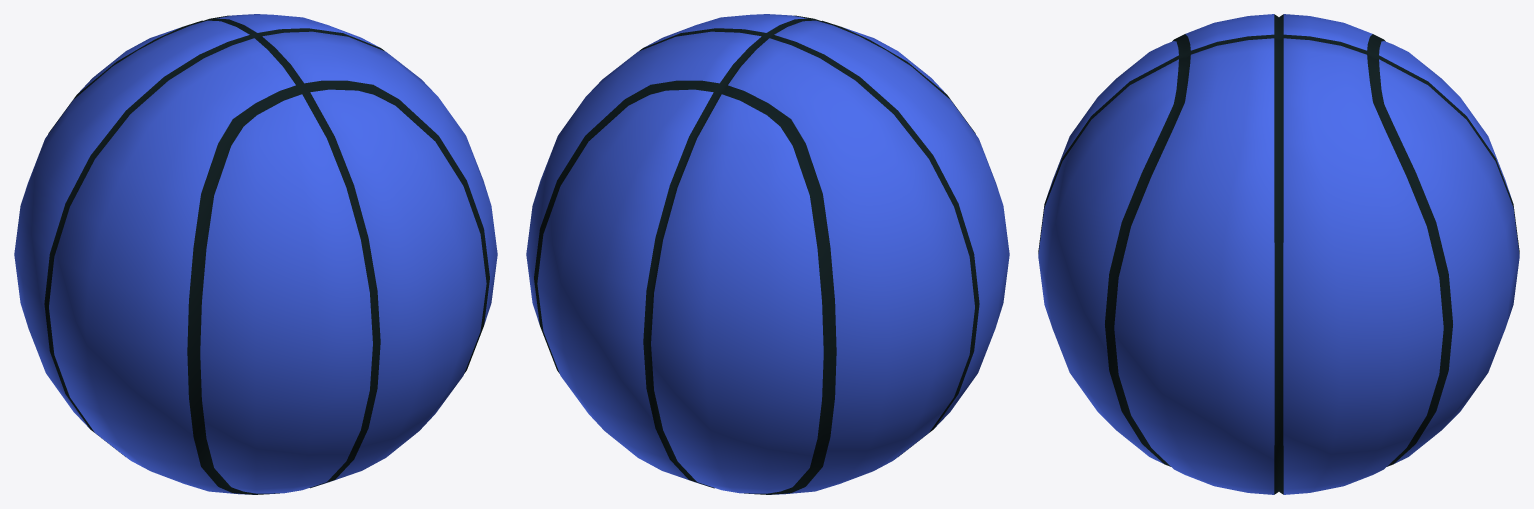
Rendered from basketball_blue.glb.
3 views of the same model, side by side, from view 1: azimuth 30°, elevation 25°; view 2: azimuth 150°, elevation 25°; view 3: azimuth 270°, elevation 25° (orthographic).
Parts seen in each view (by area): view 1: Export; view 2: Export; view 3: Export.
Part boxes in pixels (x1=…): Export: x1=14, y1=14, x2=497, y2=494; Export: x1=526, y1=14, x2=1009, y2=494; Export: x1=1038, y1=14, x2=1519, y2=494.
Size of the model in its own units: 0.2447 by 0.2445 by 0.2447.
